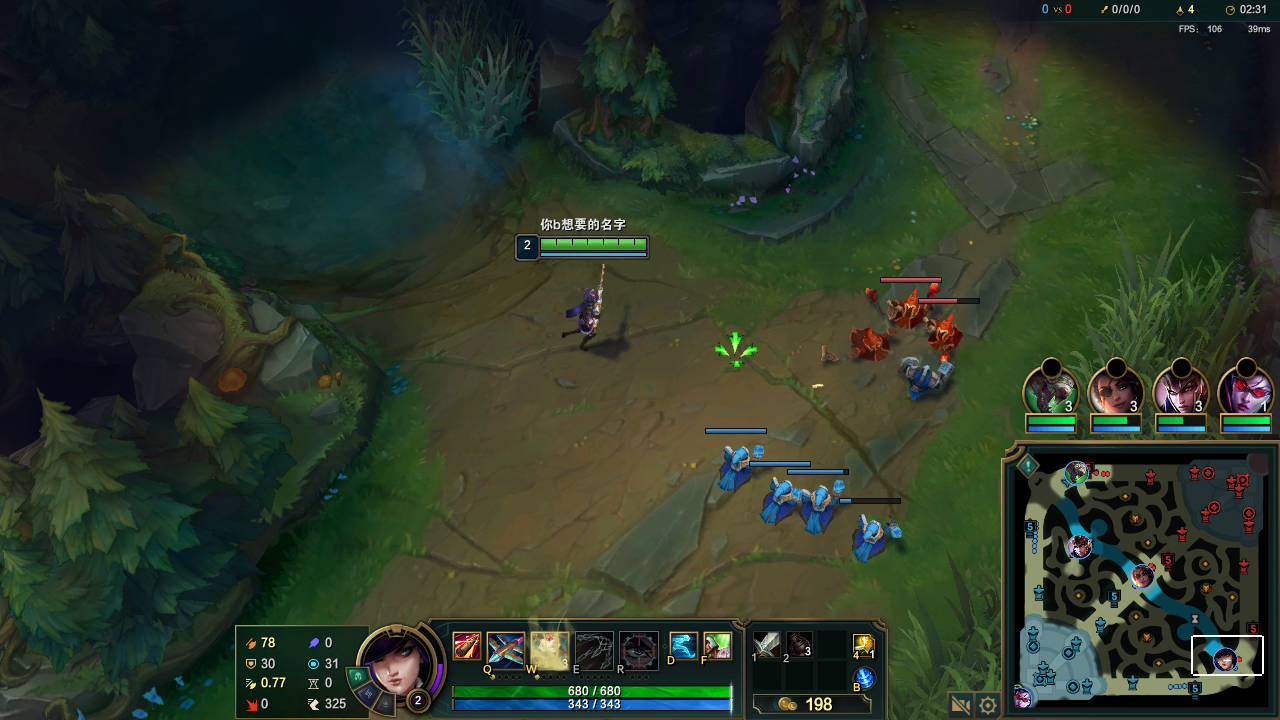DFXB: (895, 293, 927, 324), (929, 313, 956, 345)
WFXB: (846, 511, 906, 569), (796, 479, 847, 530), (715, 440, 763, 488), (903, 358, 952, 402), (754, 480, 797, 522)
Yita: (1188, 677, 1201, 698)
